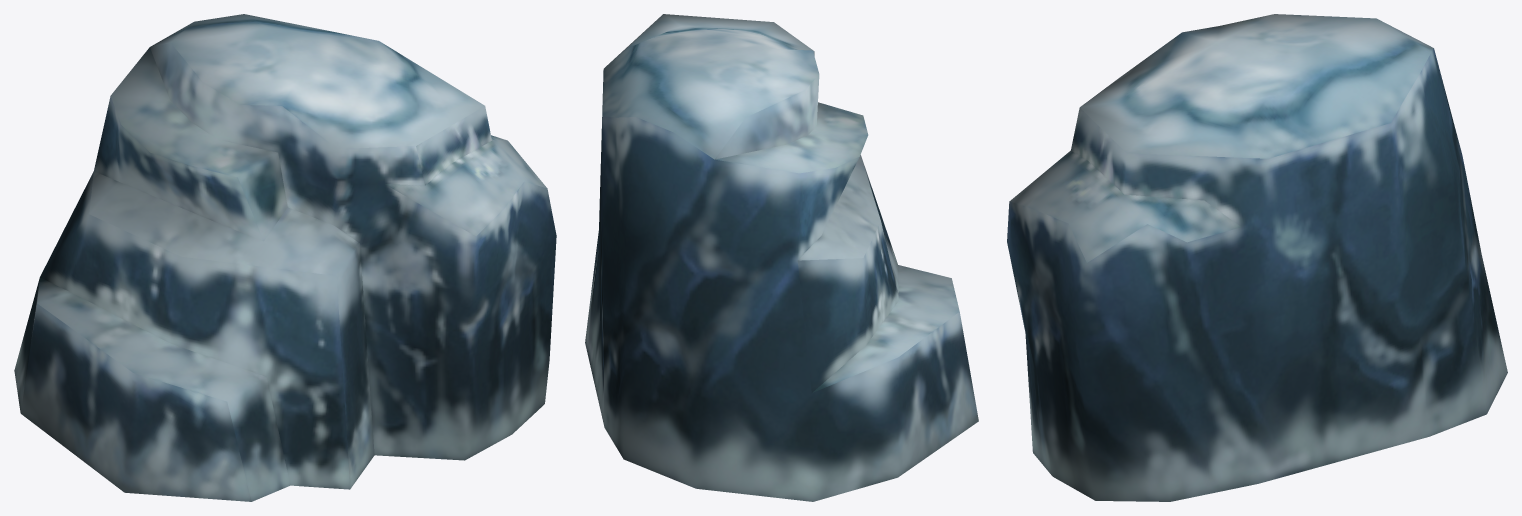
The model's file is Stage_BingYuan_ShanShi09.FBX.
The picture shows the model from 3 angles, left to right: view 1: azimuth 30°, elevation 25°; view 2: azimuth 150°, elevation 25°; view 3: azimuth 270°, elevation 25°; orthographic projection. The views are drawn at different scales.
Visible parts, largest first — view 1: Stage_BingYuan_ShanShi09; view 2: Stage_BingYuan_ShanShi09; view 3: Stage_BingYuan_ShanShi09.
Part boxes in pixels (x1,y1,x2,y2): Stage_BingYuan_ShanShi09: (14,14,556,501); Stage_BingYuan_ShanShi09: (585,14,978,501); Stage_BingYuan_ShanShi09: (1007,14,1507,501).
Bounding box in the file's own units: 791 × 668 × 788.
